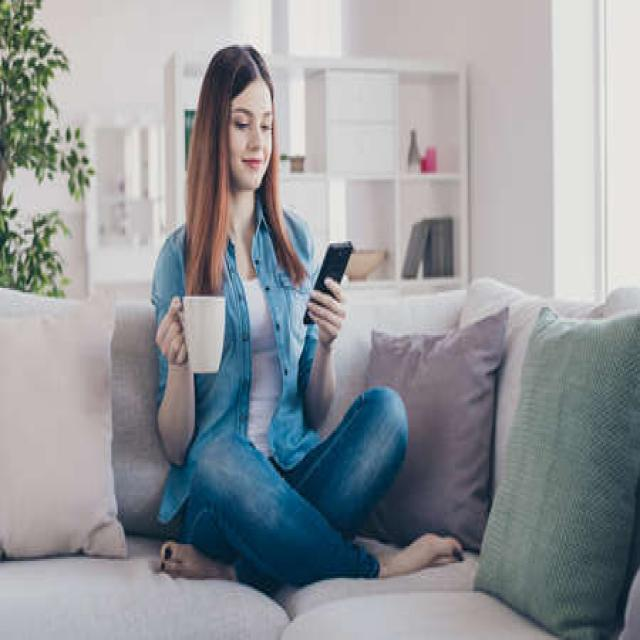smartphone-person: (144, 30, 472, 605)
